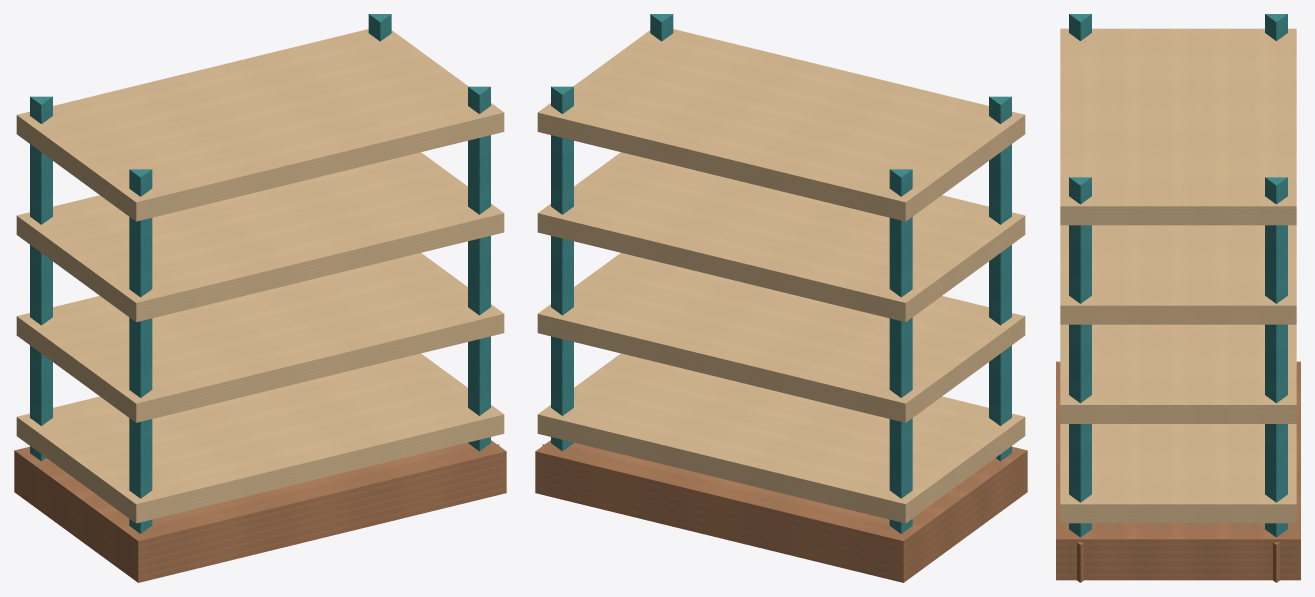
The model's file is atlas100-s100-a06.lod2.glb.
3 views of the same model, side by side, from view 1: azimuth 30°, elevation 25°; view 2: azimuth 150°, elevation 25°; view 3: azimuth 270°, elevation 25° (orthographic).
Parts seen in each view (by area): view 1: atlas100-s100-a06:part-014, atlas100-s100-a06:part-011, atlas100-s100-a06:part-013, atlas100-s100-a06:part-012, atlas100-s100-a06:part-000, atlas100-s100-a06:part-005, atlas100-s100-a06:part-009, atlas100-s100-a06:part-003; view 2: atlas100-s100-a06:part-014, atlas100-s100-a06:part-011, atlas100-s100-a06:part-013, atlas100-s100-a06:part-012, atlas100-s100-a06:part-000, atlas100-s100-a06:part-003, atlas100-s100-a06:part-007, atlas100-s100-a06:part-005; view 3: atlas100-s100-a06:part-014, atlas100-s100-a06:part-011, atlas100-s100-a06:part-013, atlas100-s100-a06:part-012, atlas100-s100-a06:part-000, atlas100-s100-a06:part-007, atlas100-s100-a06:part-009, atlas100-s100-a06:part-003, atlas100-s100-a06:part-005.
Boxes of the visible parts, <box> form: atlas100-s100-a06:part-014: <box>16,29,504,221</box>; atlas100-s100-a06:part-011: <box>16,353,504,523</box>; atlas100-s100-a06:part-013: <box>16,152,504,322</box>; atlas100-s100-a06:part-012: <box>16,253,504,422</box>; atlas100-s100-a06:part-000: <box>14,440,506,582</box>; atlas100-s100-a06:part-005: <box>129,169,152,533</box>; atlas100-s100-a06:part-009: <box>468,86,490,451</box>; atlas100-s100-a06:part-003: <box>30,96,52,461</box>; atlas100-s100-a06:part-014: <box>537,29,1025,221</box>; atlas100-s100-a06:part-011: <box>537,353,1025,523</box>; atlas100-s100-a06:part-013: <box>537,152,1025,322</box>; atlas100-s100-a06:part-012: <box>537,253,1025,422</box>; atlas100-s100-a06:part-000: <box>535,440,1027,582</box>; atlas100-s100-a06:part-003: <box>889,169,912,533</box>; atlas100-s100-a06:part-007: <box>551,86,573,451</box>; atlas100-s100-a06:part-005: <box>989,96,1011,461</box>; atlas100-s100-a06:part-014: <box>1060,28,1296,225</box>; atlas100-s100-a06:part-011: <box>1060,424,1296,523</box>; atlas100-s100-a06:part-013: <box>1060,225,1296,324</box>; atlas100-s100-a06:part-012: <box>1060,324,1296,423</box>; atlas100-s100-a06:part-000: <box>1056,361,1300,580</box>; atlas100-s100-a06:part-007: <box>1265,177,1287,537</box>; atlas100-s100-a06:part-009: <box>1069,177,1091,537</box>; atlas100-s100-a06:part-003: <box>1265,14,1287,40</box>; atlas100-s100-a06:part-005: <box>1069,14,1091,40</box>.
Bounding box in the file's own units: 2.43 × 2.48 × 1.4.
3 materials, 3 textured.
